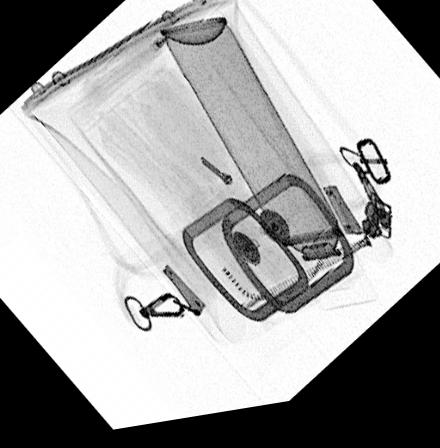Sprayer: (159, 22, 381, 322)
